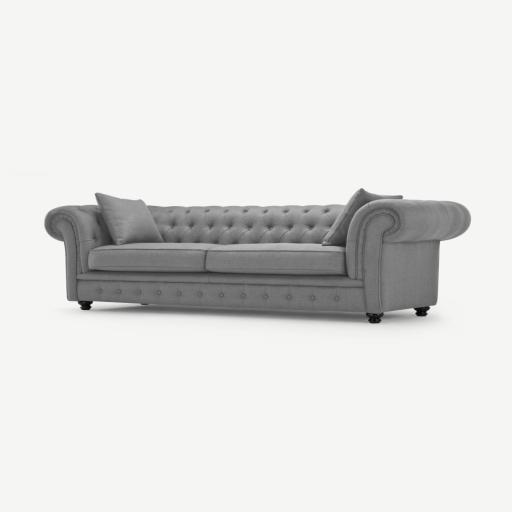back_cushion: (148, 205, 344, 244)
base: (75, 273, 366, 310)
left_arm: (380, 241, 438, 312)
legs: (367, 313, 383, 323), (78, 301, 92, 310), (416, 307, 428, 315)
right_arm: (45, 206, 111, 300)
seat_cushion: (89, 243, 346, 275)
two-seater: (0, 0, 511, 512)
